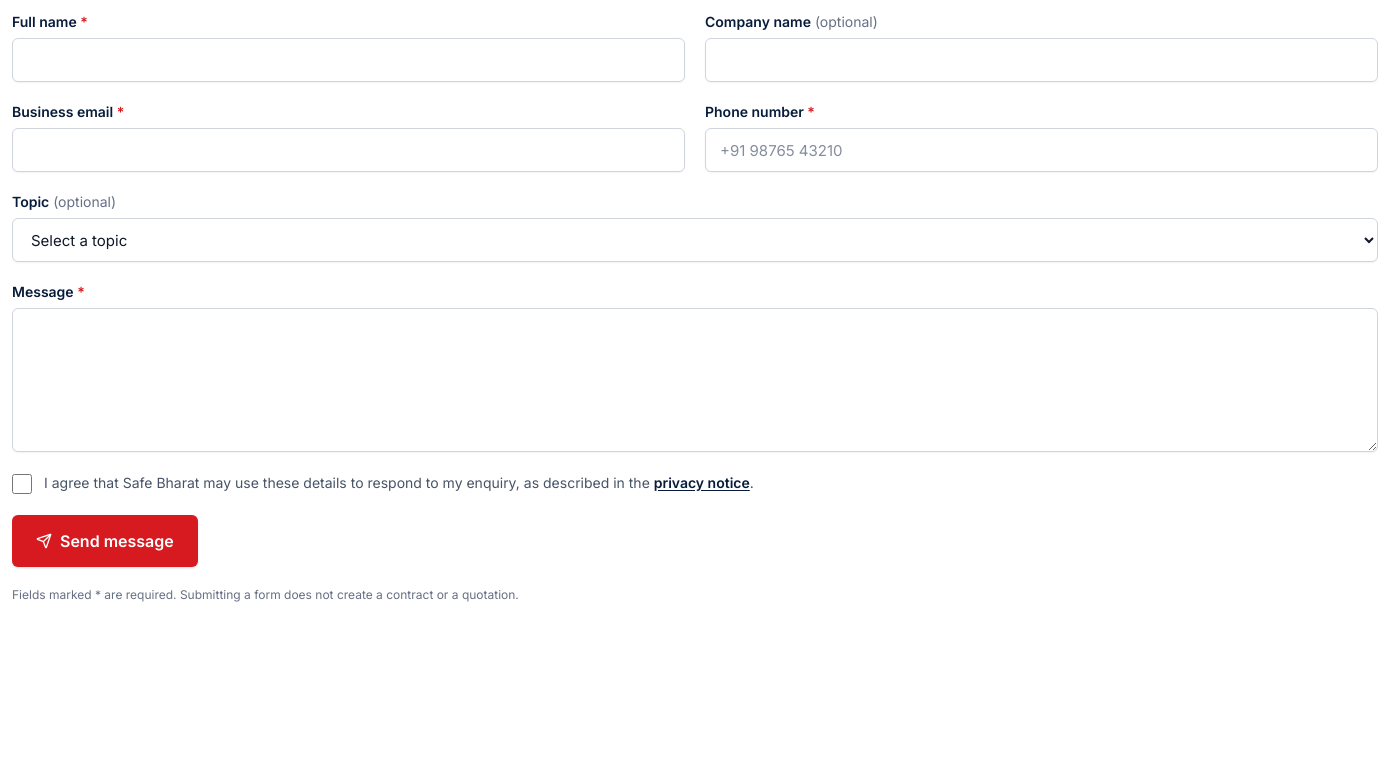
Test: ContactForm › shows validation errors and does not submit when empty
Click the button "Send message": (105, 541) [12,515,198,567]
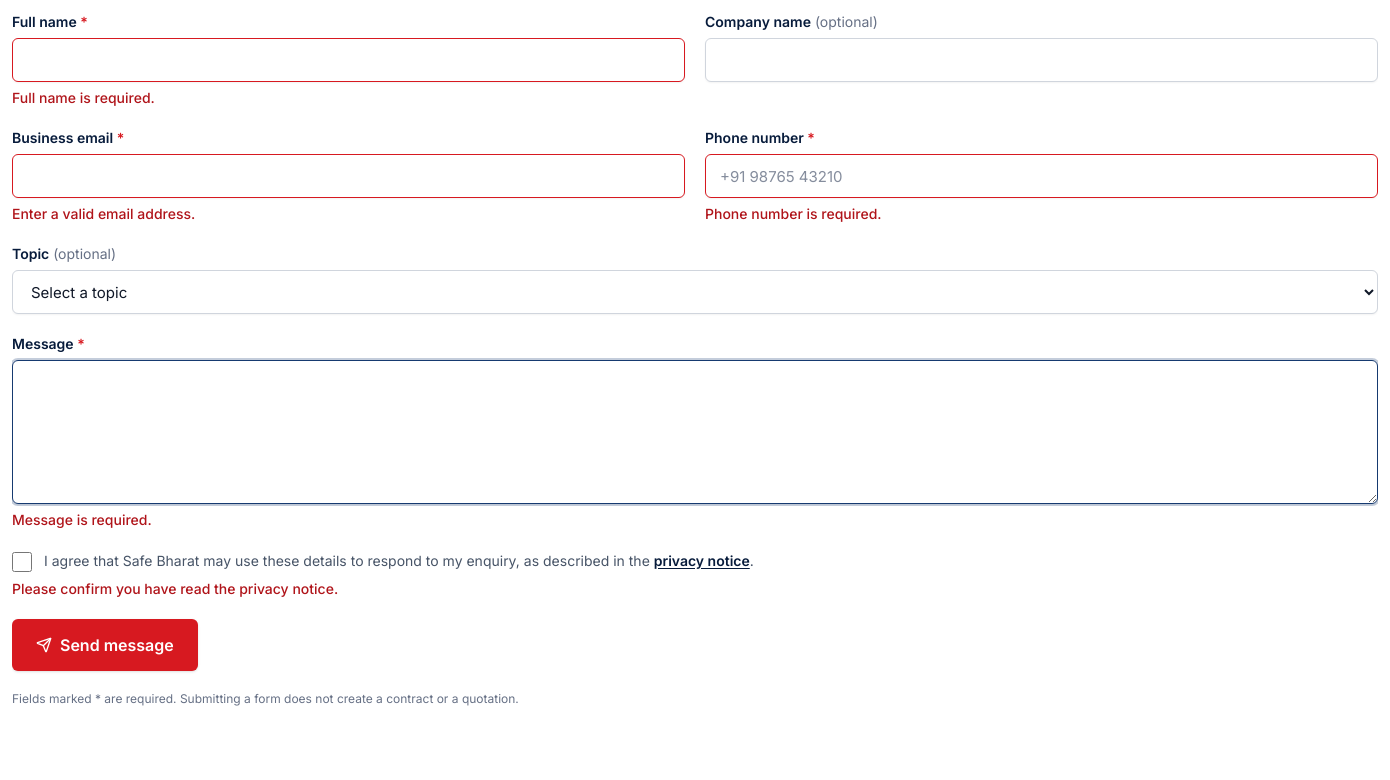
Now the text "Full name is required." is shown, box [12,89,155,106]
Now the text "Please confirm you have read the privacy notice." is shown, box [12,580,338,597]
